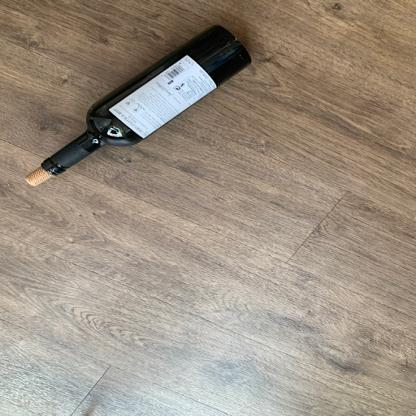trash: (20, 26, 256, 188)
